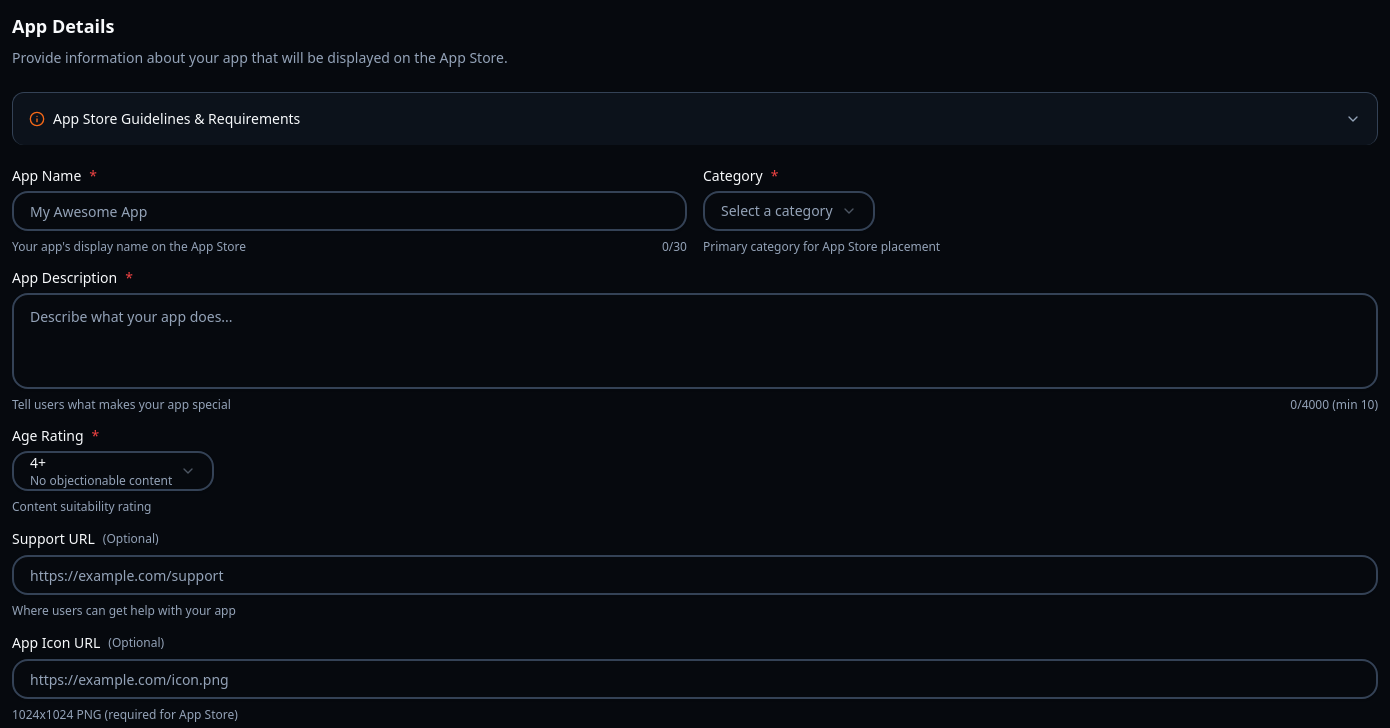
it: AppDetailsStep › App Store Guidelines Accordion › expands guidelines section on click
This screenshot has width=1390, height=728.
Click the button "App Store Guidelines & Requirements" at (177, 118), box 29,93 -> 1361,145
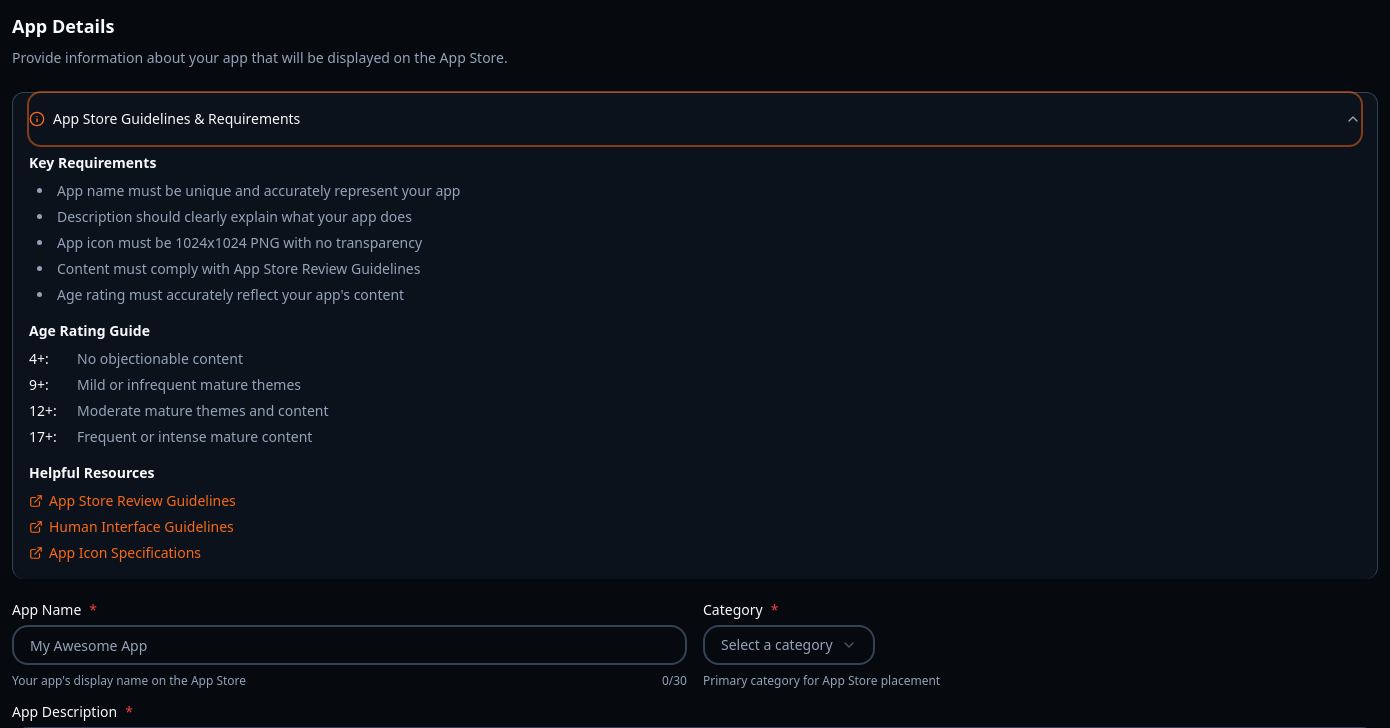
Now the heading "Key Requirements" is shown, box 29,153 -> 156,172
Now the heading "Age Rating Guide" is shown, box 29,321 -> 150,340
Now the heading "Helpful Resources" is shown, box 29,463 -> 154,482
